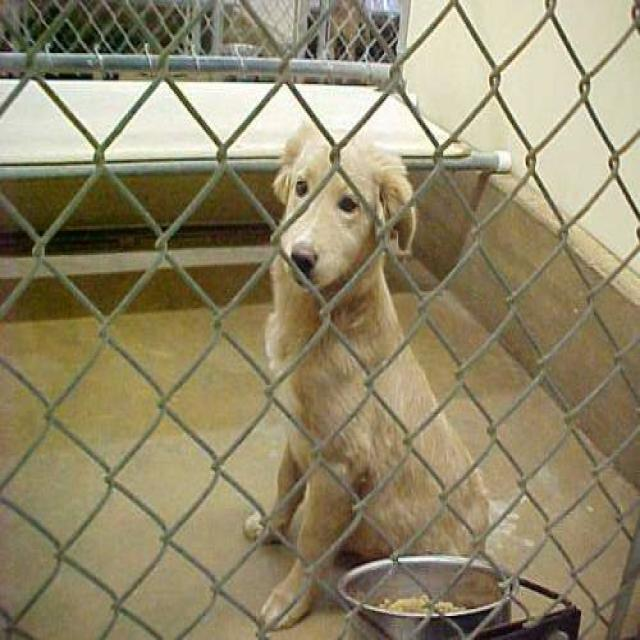dog: (242, 118, 523, 632)
